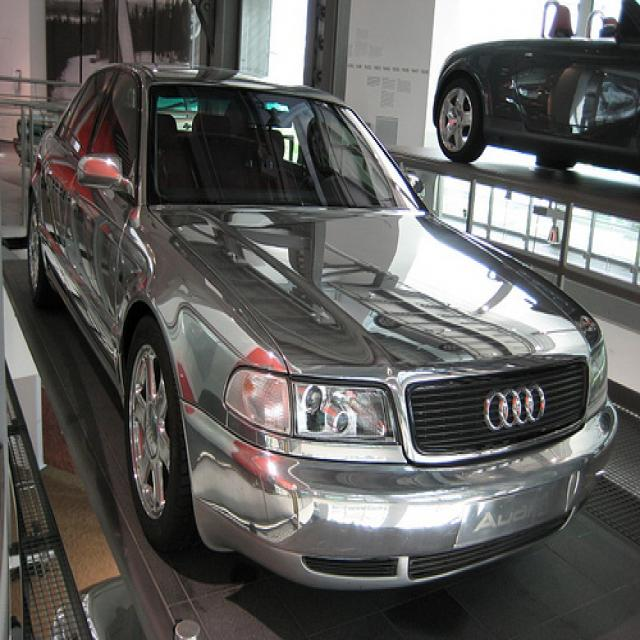Car: (0, 59, 623, 592), (436, 0, 639, 172)
